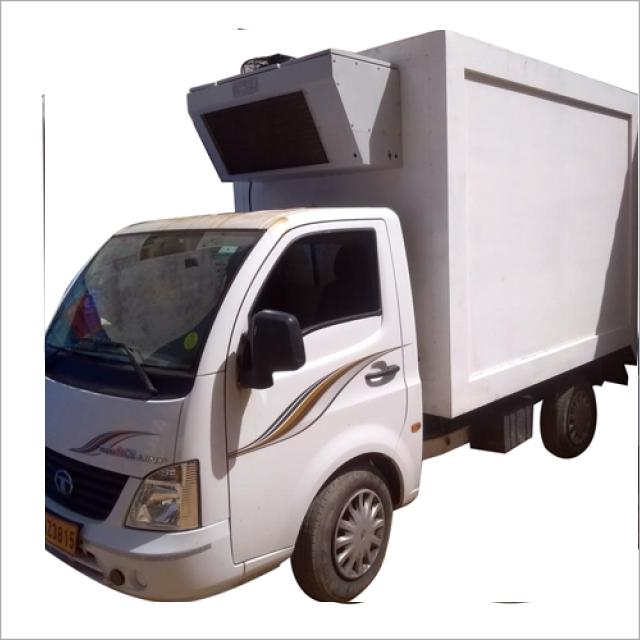truck: (45, 30, 638, 602)
